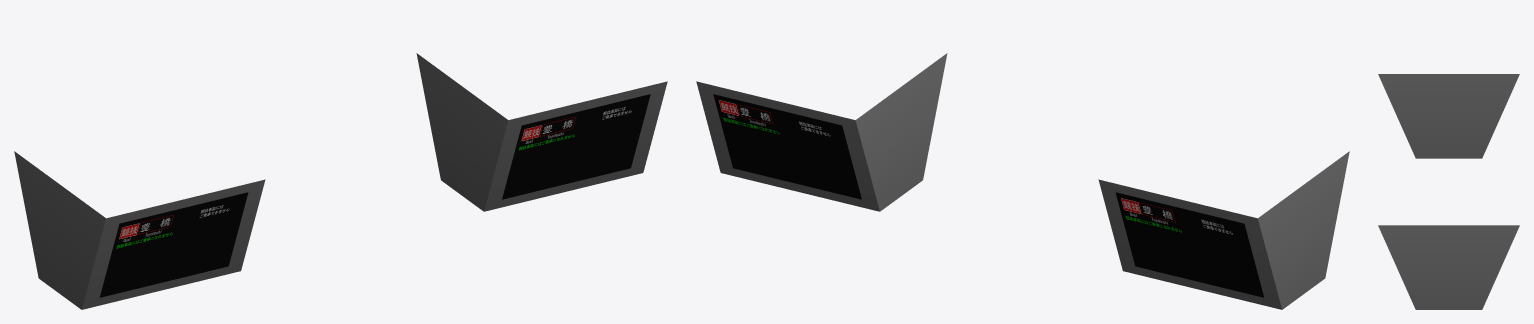
Rendered from AMB_MEI_INFO.glb.
3 renders of one model, left to right at view 1: azimuth 30°, elevation 25°; view 2: azimuth 150°, elevation 25°; view 3: azimuth 270°, elevation 25°, orthographic. The views are drawn at different scales.
Visible parts, largest first — view 1: BASE; view 2: BASE; view 3: BASE.
Boxes of the visible parts, x1,y1,x2,y2 form: BASE: (14, 53, 667, 309); BASE: (696, 53, 1349, 309); BASE: (1378, 74, 1519, 309).
Size of the model in its own units: 14.1 by 2.63 by 4.
Materials: 2 (2 with a texture image).
